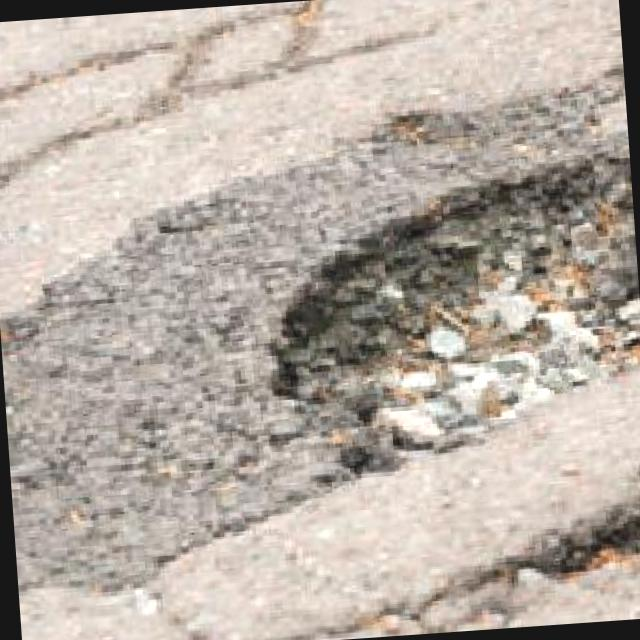Lubang: (272, 154, 640, 484), (507, 494, 640, 587)
